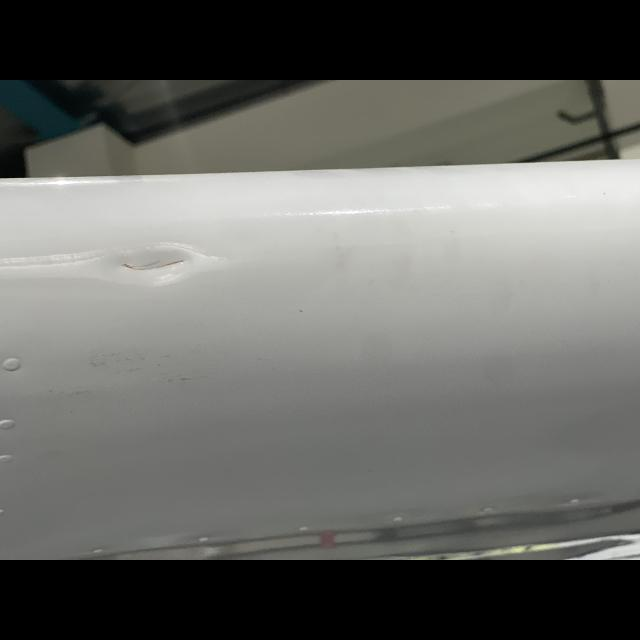dent: (78, 236, 226, 292)
